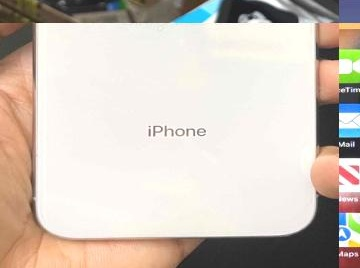physical_damage: (342, 138, 360, 268)
